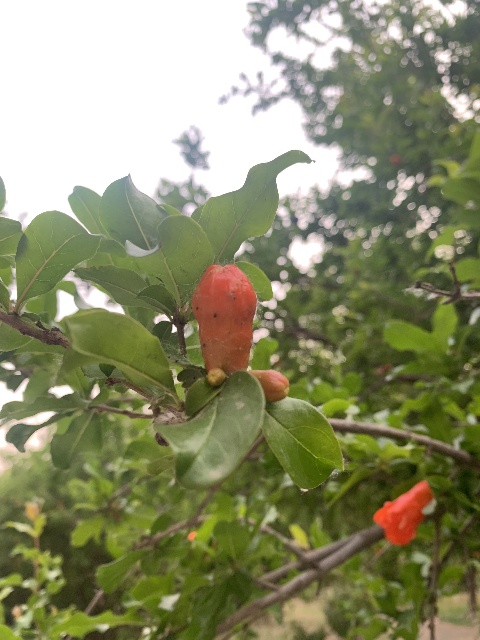bud: (191, 262, 256, 379), (246, 369, 289, 402)
flower: (372, 480, 434, 546)
